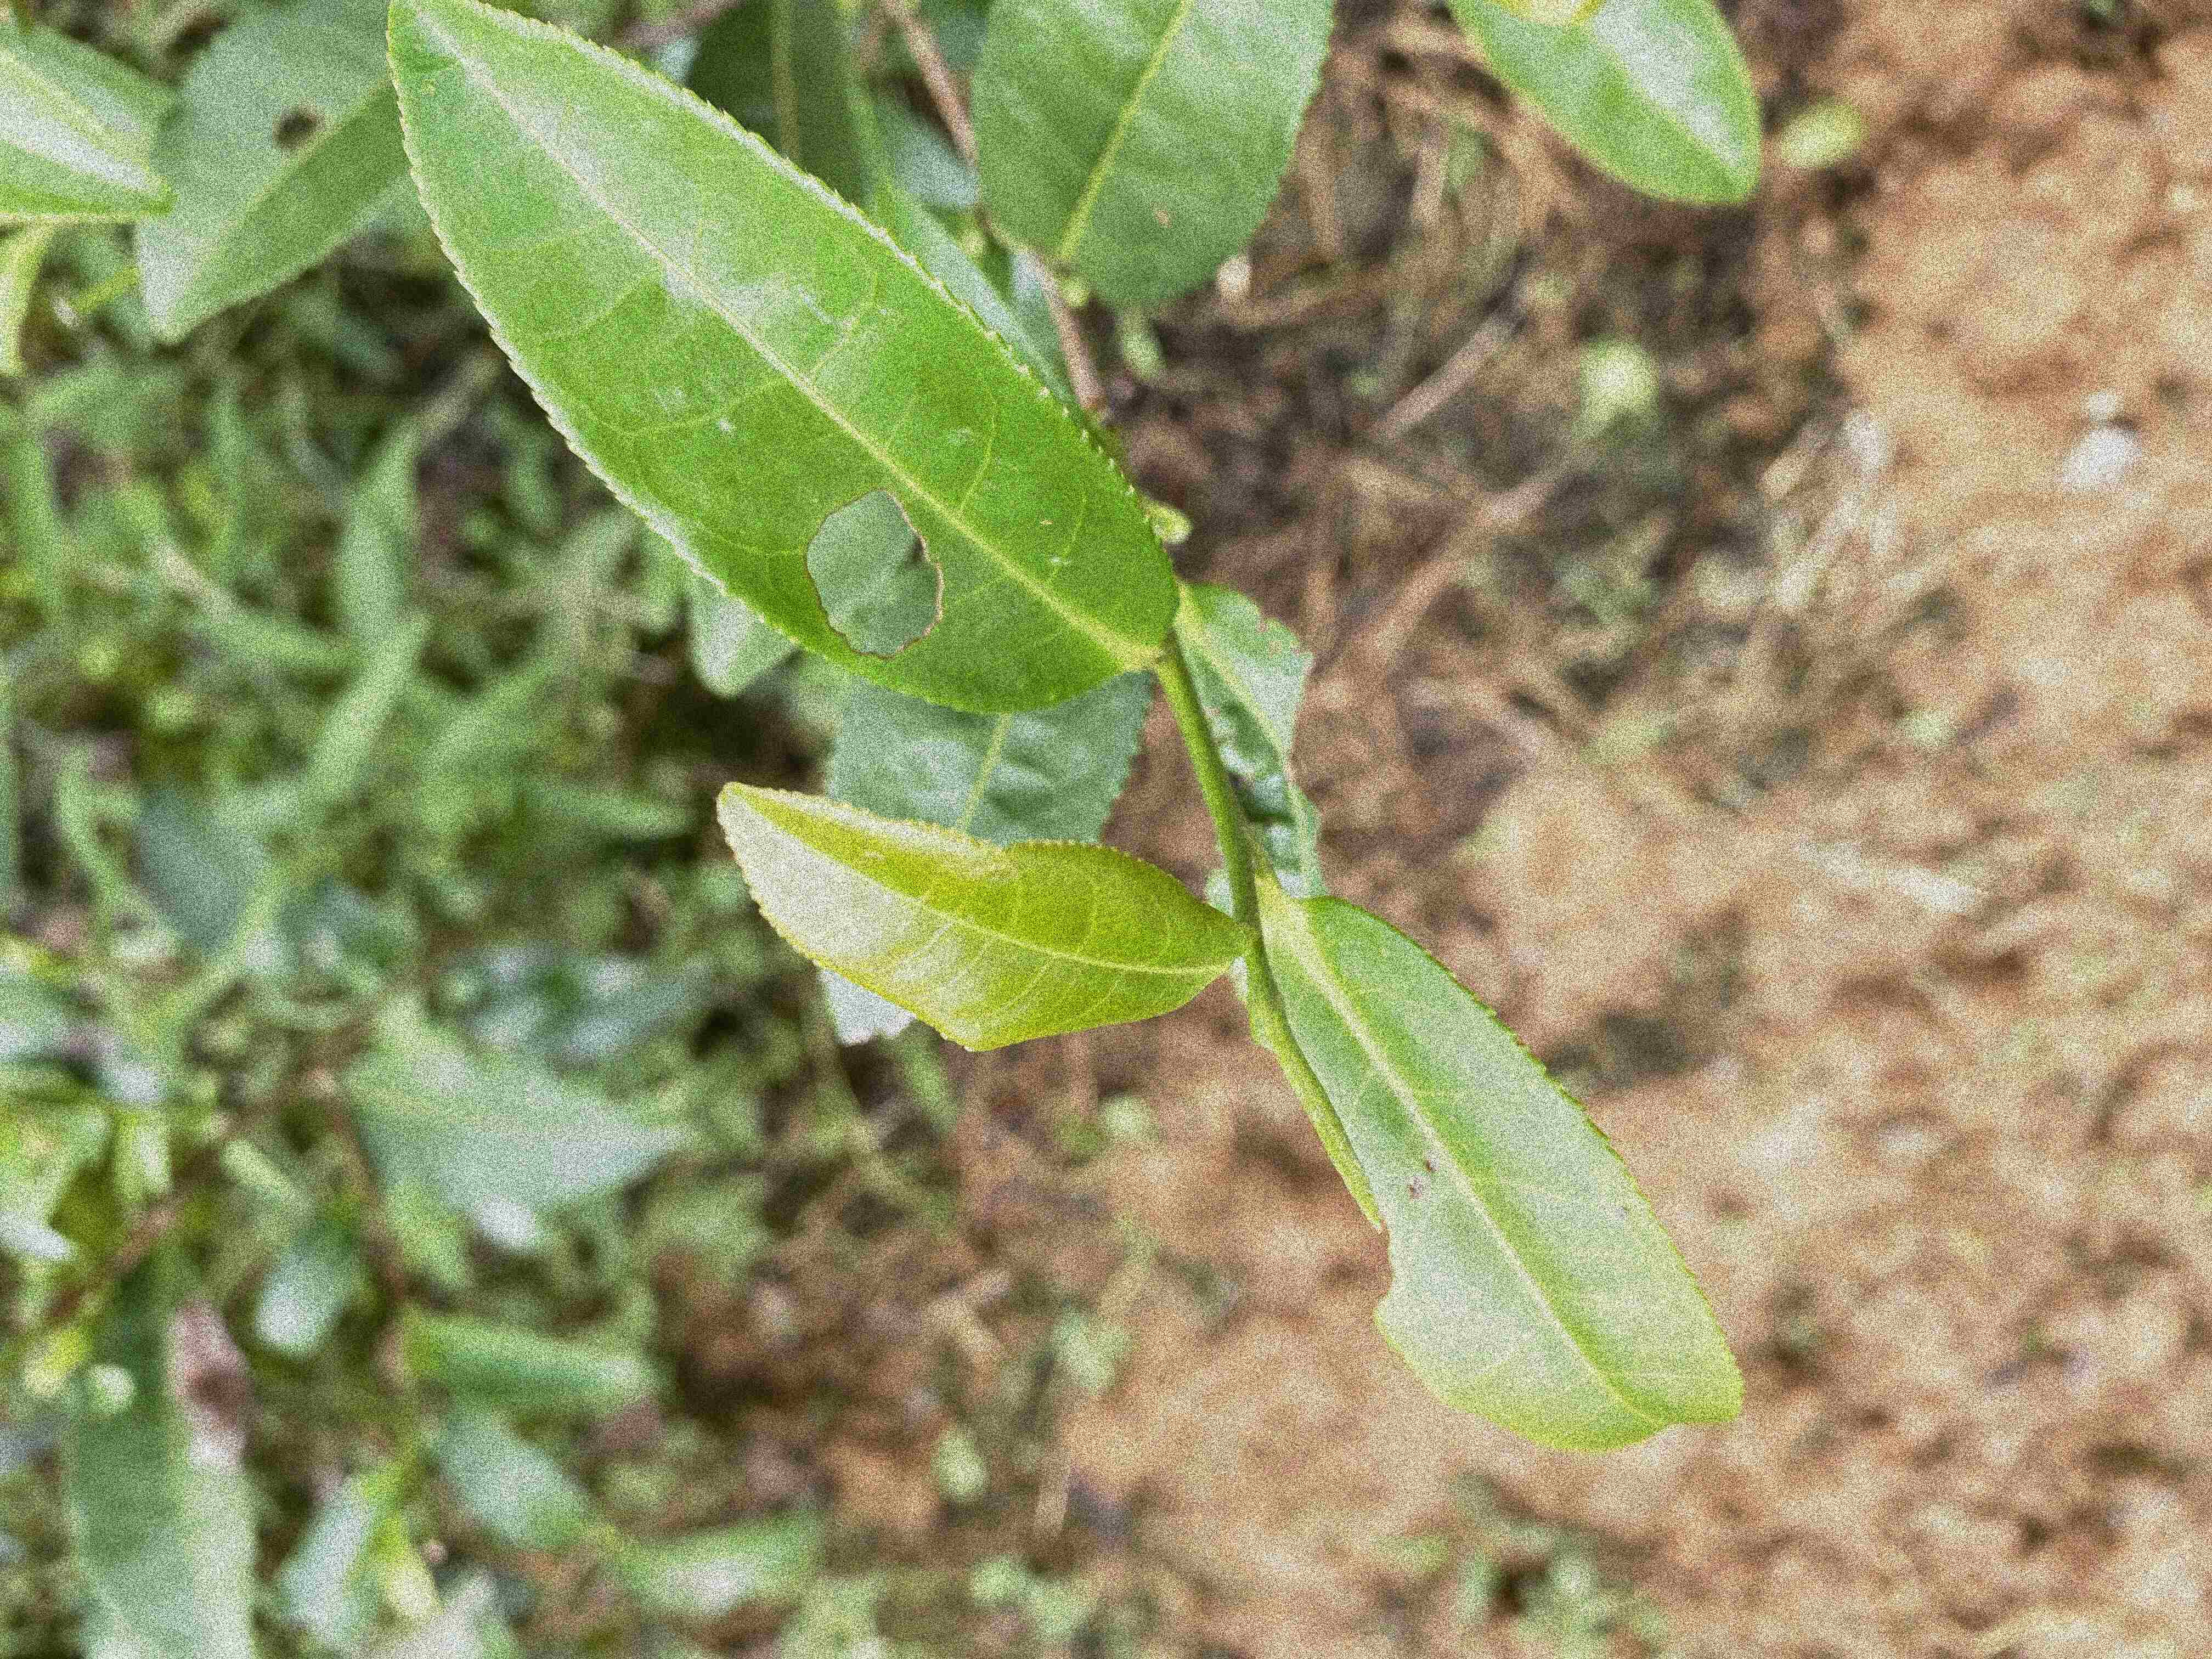chihuo_low: (385, 0, 1179, 716)
healthy: (718, 779, 1249, 1056)
